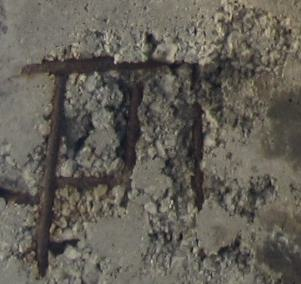Exposed reinforcement: (36, 74, 68, 279), (20, 54, 185, 77), (123, 82, 144, 174), (190, 102, 205, 212), (14, 237, 81, 256), (55, 172, 119, 189), (1, 188, 40, 207)
Spalling: (1, 1, 301, 284)
